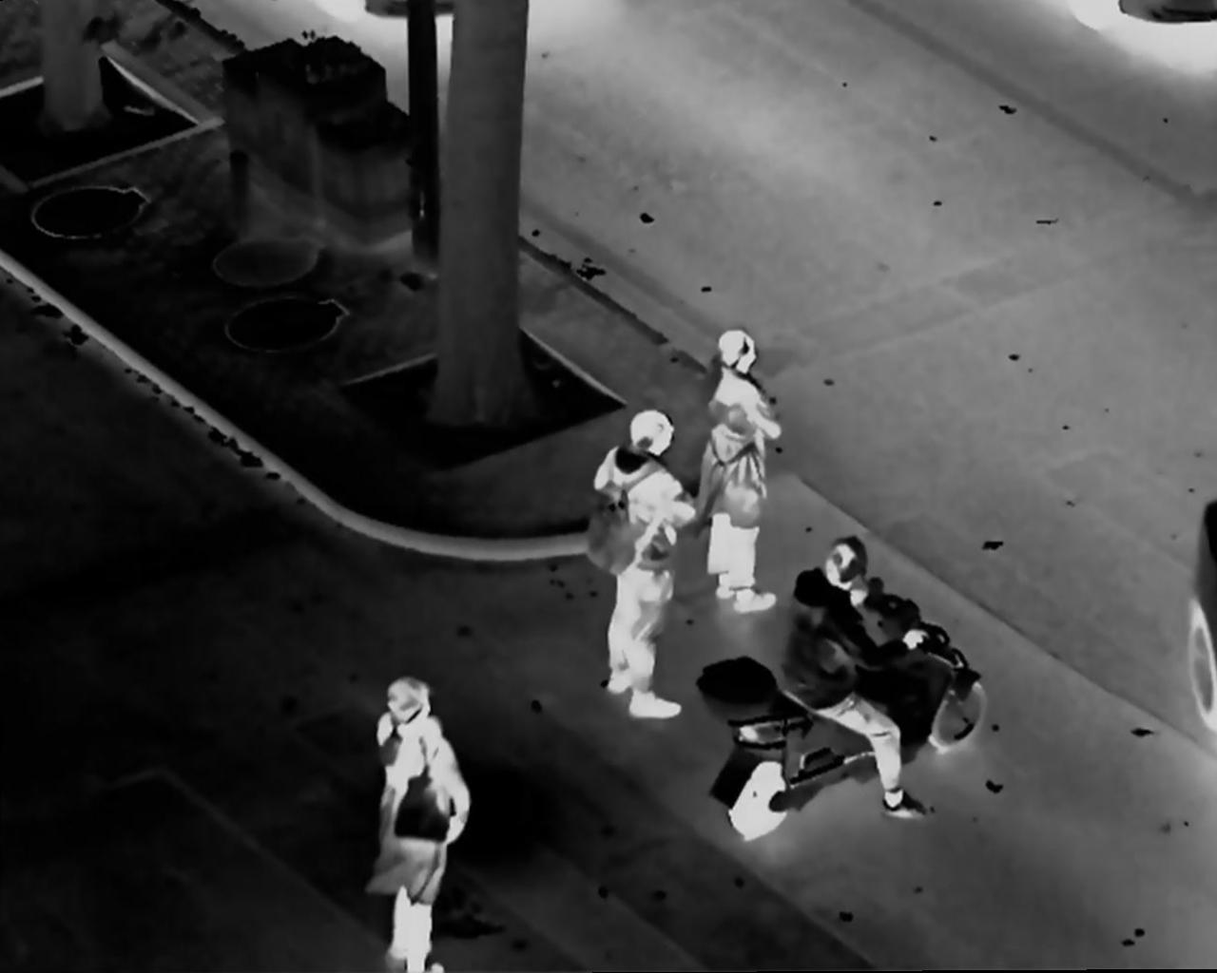person: (784, 532, 933, 826), (583, 407, 689, 723), (369, 675, 473, 973), (692, 322, 785, 620)
